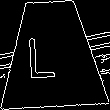L_N: (36, 28, 68, 80)
